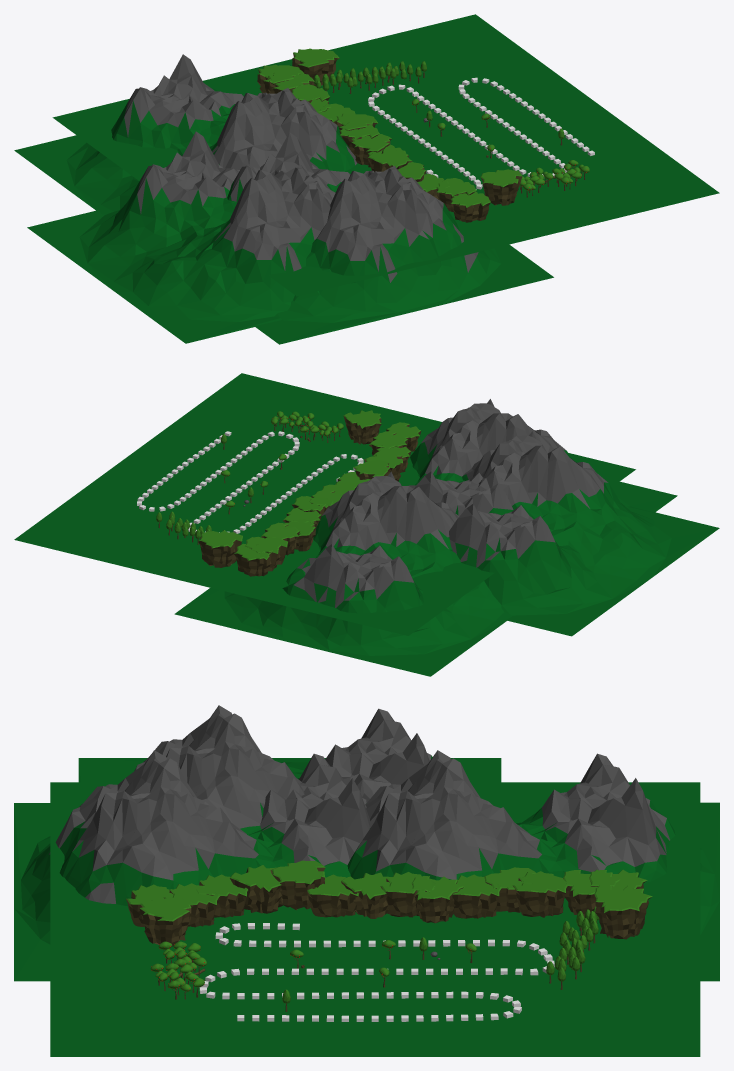
The model's file is Board v1.fbx.
3 views of the same model, one above another, from view 1: azimuth 30°, elevation 25°; view 2: azimuth 150°, elevation 25°; view 3: azimuth 270°, elevation 25° (orthographic). The views are drawn at different scales.
Visible parts, largest first — view 1: Plane.002, Landscape.005, Landscape.004, Landscape.003, Cube.001, Plane.025, Plane.019, Plane, Plane.008, Plane.006, Plane.018, Plane.003 (+2 smaller); view 2: Plane.002, Landscape.005, Landscape.003, Landscape.004, Cube.001, Plane.019, Plane.018, Plane.025, Plane.016, Plane.014, Plane.015, Plane.006 (+3 smaller); view 3: Plane.002, Landscape.004, Landscape.003, Landscape.005, Cube.001, Plane.019, Plane.025, Plane.015, Plane.006, Plane.010, Plane.005, Plane.011 (+9 smaller).
Part boxes in pixels (box(x1,y1,x2,y2)): Plane.002: box(52, 14, 719, 296); Landscape.005: box(27, 131, 335, 343); Landscape.004: box(227, 132, 553, 344); Landscape.003: box(14, 54, 357, 215); Cube.001: box(368, 77, 594, 189); Plane.025: box(480, 169, 522, 205); Plane.019: box(292, 48, 339, 86); Plane: box(451, 190, 490, 222); Plane.008: box(351, 134, 391, 167); Plane.006: box(368, 148, 412, 171); Plane.018: box(257, 64, 304, 93); Plane.003: box(436, 178, 476, 211); Plane.002: box(14, 373, 635, 635); Landscape.005: box(449, 431, 719, 636); Landscape.003: box(174, 471, 512, 676); Landscape.004: box(408, 399, 677, 516); Cube.001: box(137, 431, 363, 533); Plane.019: box(198, 531, 242, 567); Plane.018: box(234, 543, 278, 576); Plane.025: box(343, 410, 381, 444); Plane.016: box(245, 536, 287, 568); Plane.014: box(281, 519, 315, 551); Plane.015: box(261, 522, 299, 555); Plane.006: box(353, 460, 389, 479); Plane.002: box(50, 782, 700, 1056); Landscape.004: box(14, 750, 370, 981); Landscape.003: box(347, 750, 719, 981); Landscape.005: box(78, 705, 501, 833); Cube.001: box(199, 923, 554, 1021); Plane.019: box(594, 886, 652, 939); Plane.025: box(139, 898, 194, 946); Plane.015: box(512, 871, 567, 917); Plane.006: box(270, 860, 325, 910); Plane.010: box(412, 876, 464, 923); Plane.005: box(230, 865, 282, 913); Plane.011: box(452, 874, 501, 918).
Bounding box in the file's own units: 22642 × 4071 × 19875.
